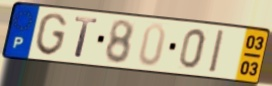0: (137, 22, 168, 69), (178, 27, 208, 72)
8: (103, 18, 135, 66)
G: (33, 12, 69, 58)
I: (207, 28, 227, 76)
T: (73, 16, 100, 60)
